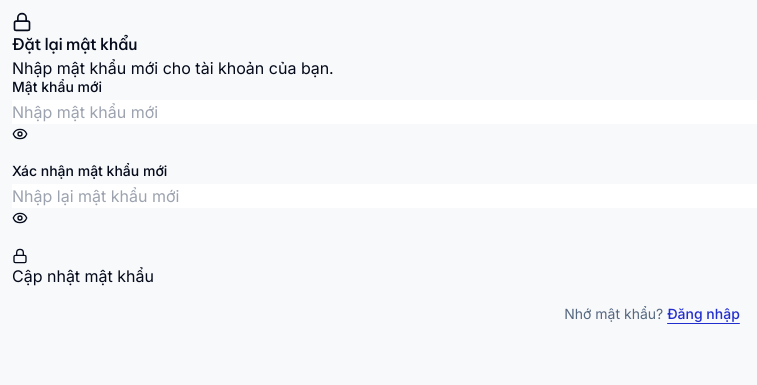
it: ResetPasswordPage › shows validation error for empty password
The width and height of the screenshot is (757, 385).
Click the button "Cập nhật mật khẩu" at coordinates (83, 268), box x1=12 y1=248 x2=154 y2=288
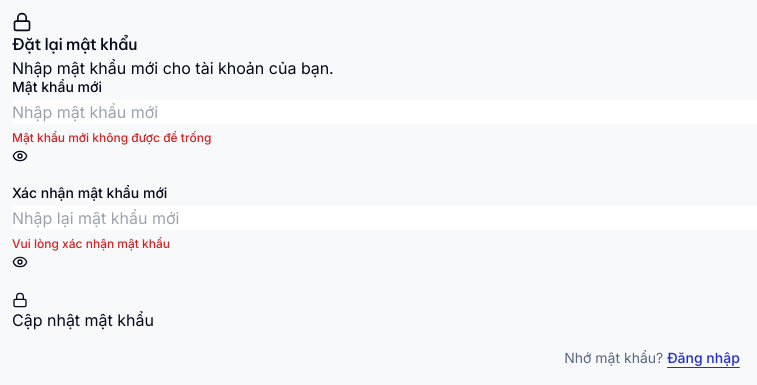
Expected: the text "Mật khẩu mới không được để trống" is shown, x1=12 y1=130 x2=212 y2=145
